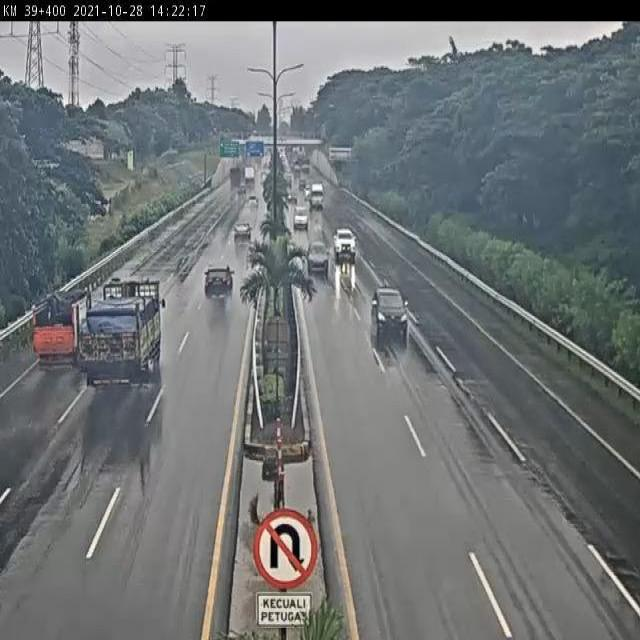car: (369, 285, 409, 332), (202, 264, 234, 300), (332, 227, 359, 264), (306, 240, 332, 276), (232, 221, 254, 247), (293, 205, 309, 227), (247, 192, 260, 212)
small truck: (86, 279, 169, 388), (31, 293, 80, 380)
